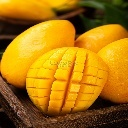mango: (26, 47, 108, 116), (2, 20, 76, 88), (96, 38, 128, 104)
